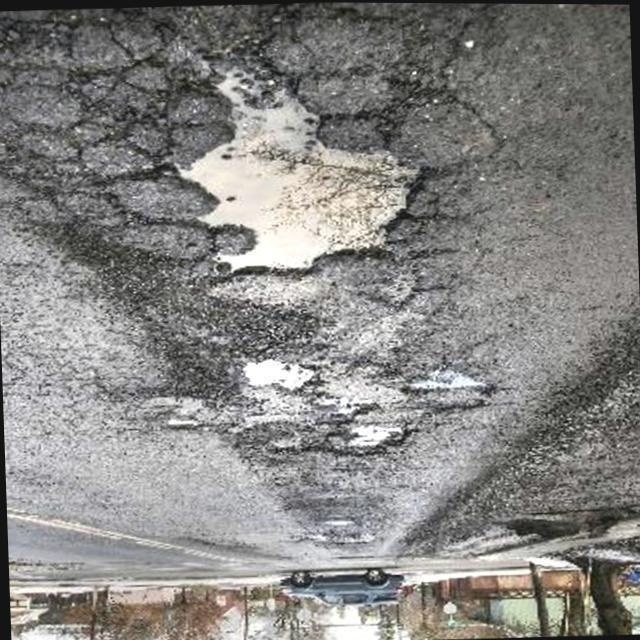pothole: (181, 81, 426, 276), (240, 338, 470, 461)
